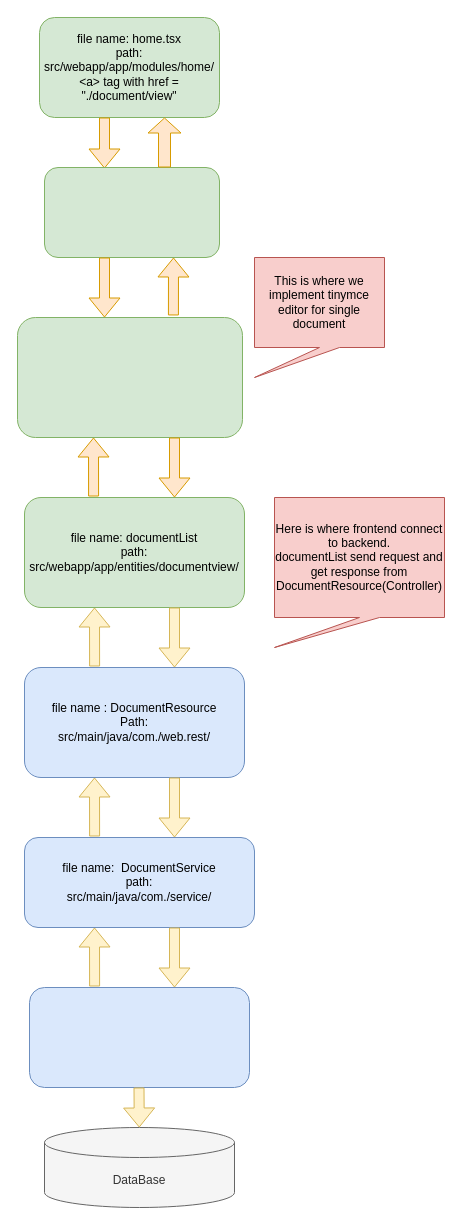
This 462x1225 diagram has some shape labels left out. Each missing label, with the centre of its shape:
"file name: document view path: src/webapp/app/entities/documentview/" goes at point (129, 377).
"file name: DocumentRepository path: src/main/java/repository/" goes at point (139, 1037).
"file name: routes.tsx path: src/webapp/app/entities/ <Route> tag" goes at point (132, 212).
